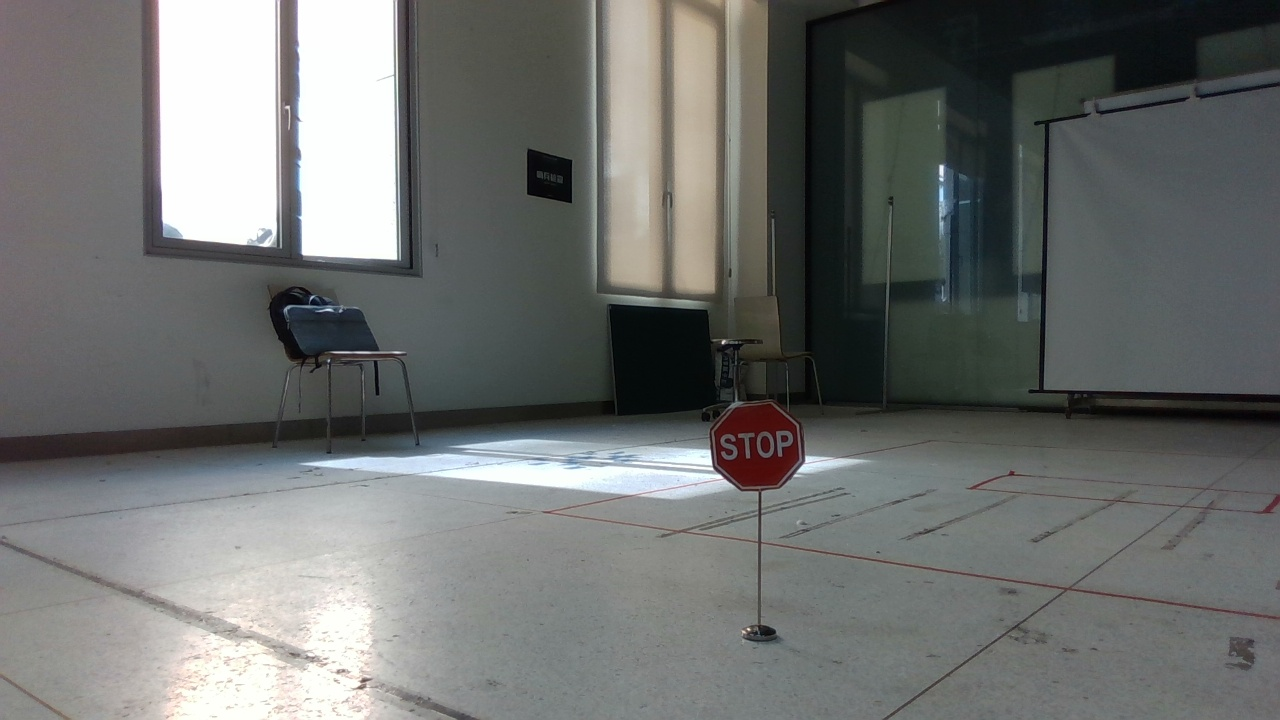stop_sign: (710, 397, 808, 495)
